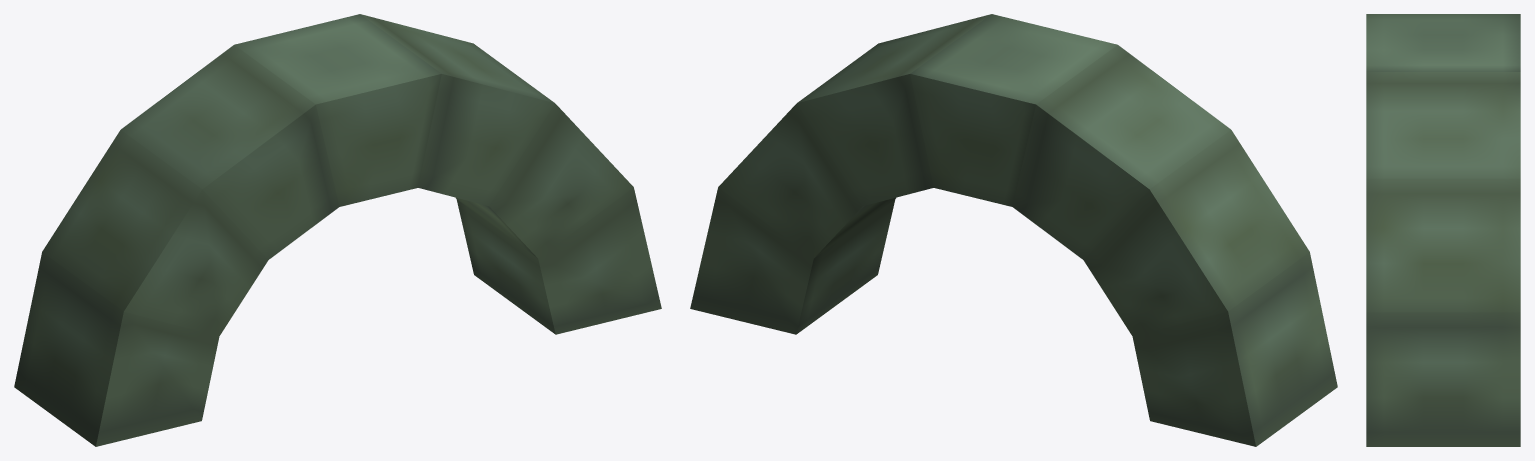
File: arch_04_green.fbx
3 renders of one model, left to right at view 1: azimuth 30°, elevation 25°; view 2: azimuth 150°, elevation 25°; view 3: azimuth 270°, elevation 25°, orthographic. The views are drawn at different scales.
Visible parts, largest first — view 1: arch_04_green; view 2: arch_04_green; view 3: arch_04_green.
Part boxes in pixels (x1,y1,x2,y2): arch_04_green: (14, 14, 661, 446); arch_04_green: (690, 14, 1337, 446); arch_04_green: (1366, 14, 1520, 446).
Bounding box in the file's own units: 16 × 7.8 × 4.
